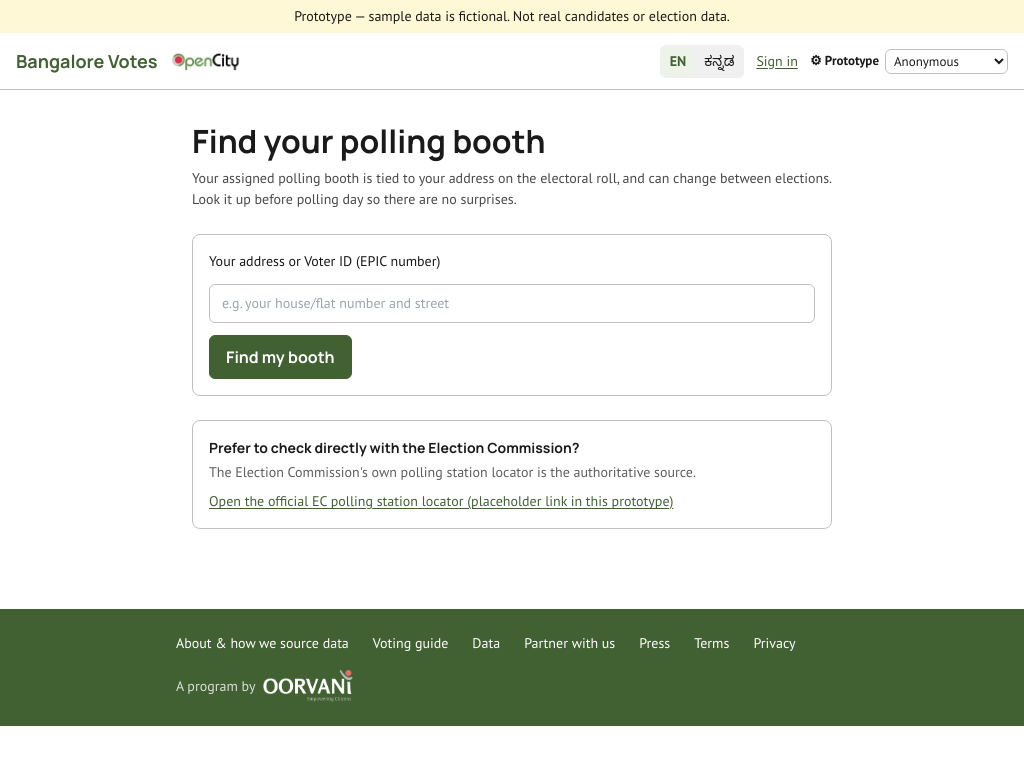
Scenario: find-booth: the lookup result is clearly labelled as a prototype demo, not a real booth lookup
Expected: the field labelled "Your address or Voter ID (EPIC number)" is shown, [209,284,815,323]
What coordinates should you click on to do the following:
click the button "Find my booth"
I would click on:
 (280, 357)
Its box is [209,335,352,379].
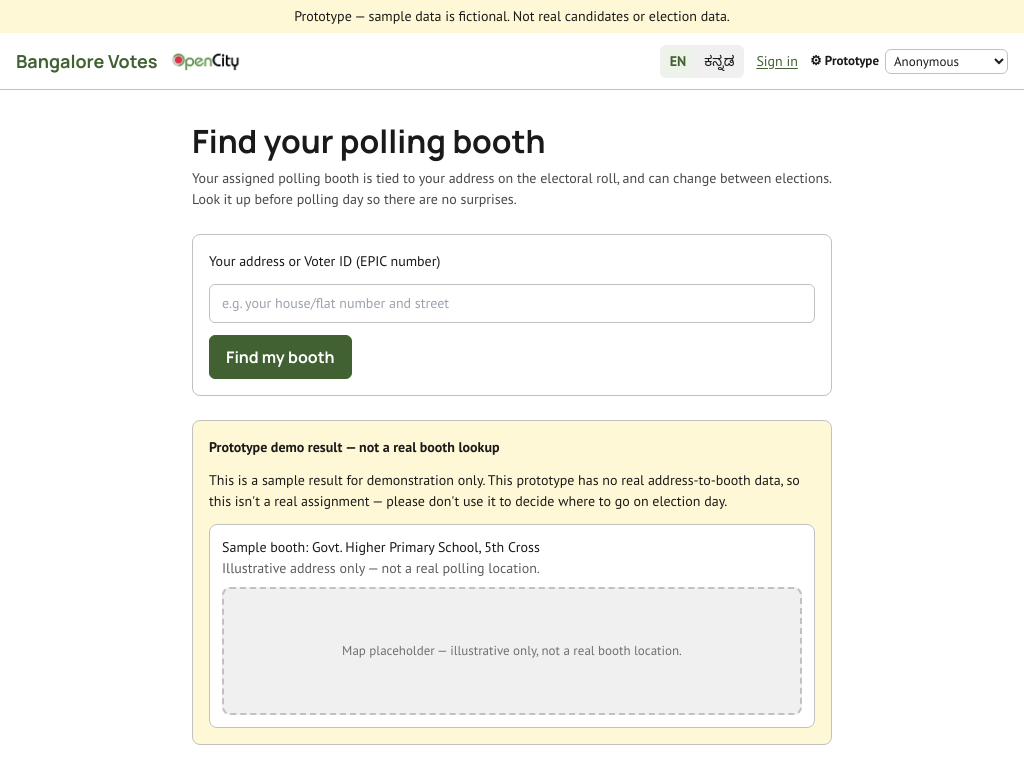
Now the text "Prototype demo result — not a real booth lookup" is shown, box [209,438,500,456]
